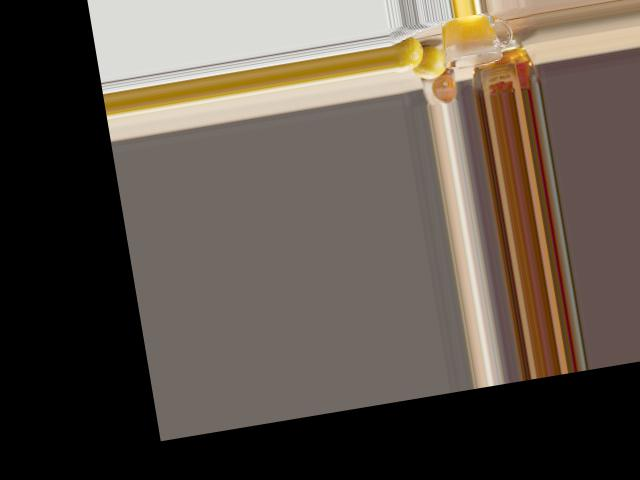lemon: (391, 37, 422, 69)
